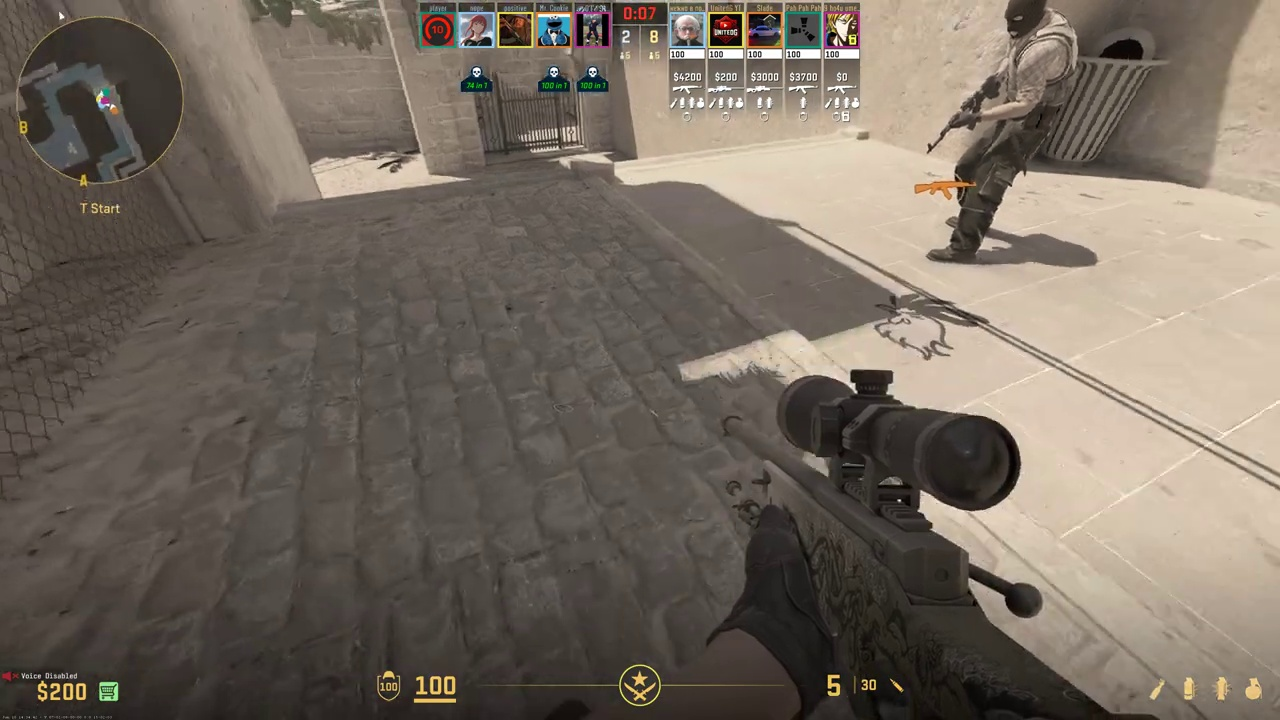Terrorist: (952, 1, 1071, 266)
